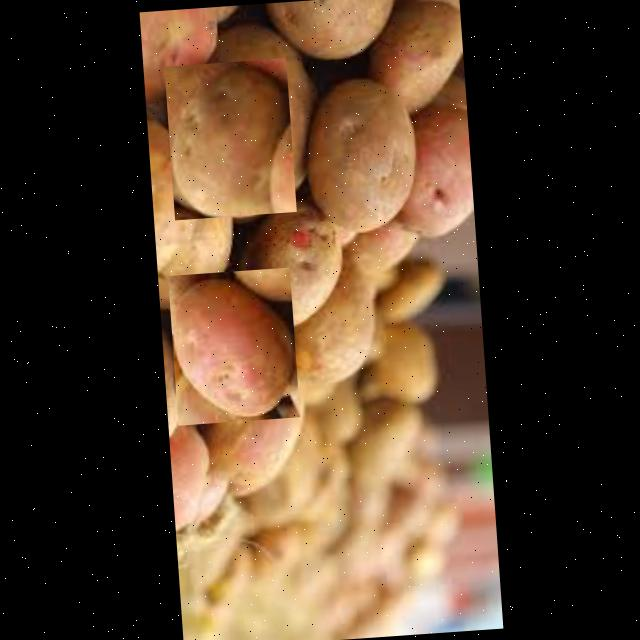Diseased-fungal potato: (296, 72, 422, 242), (163, 58, 295, 220), (166, 267, 298, 425), (232, 194, 346, 336)
